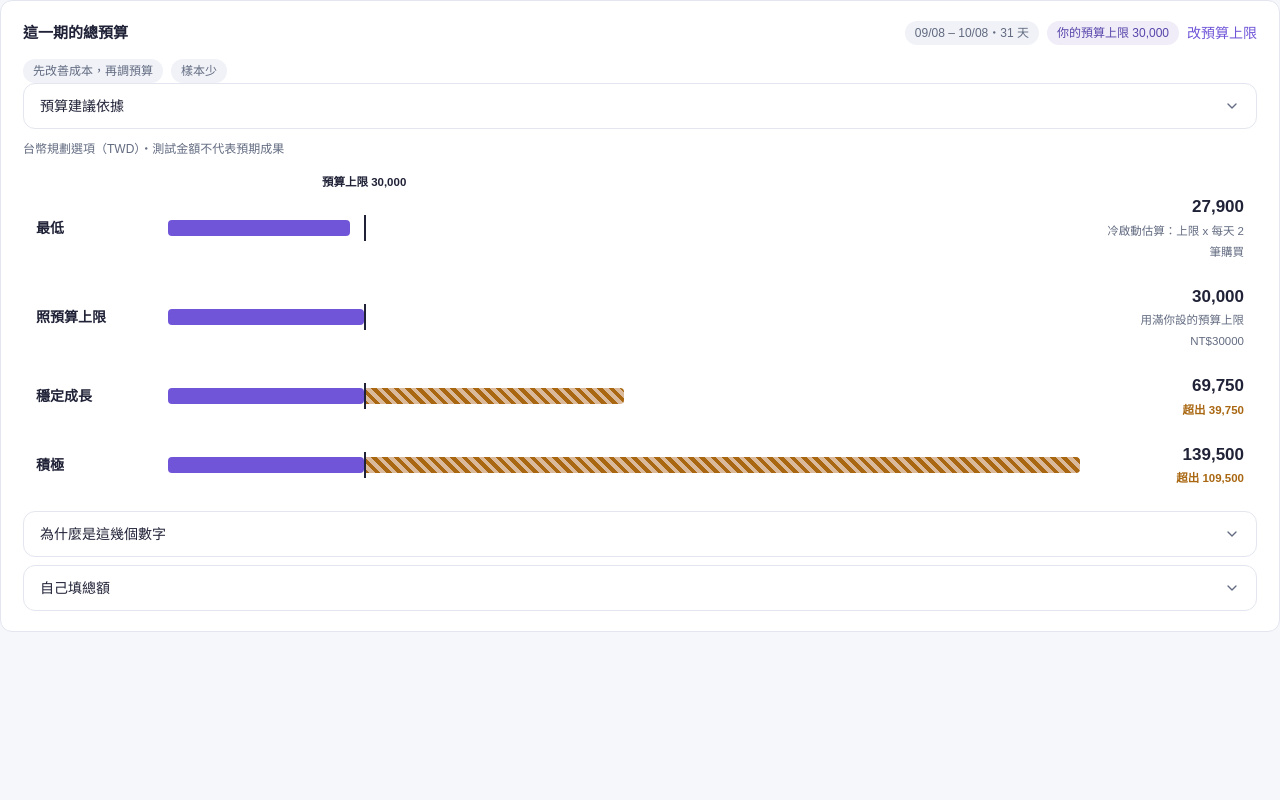
Test case: BudgetScenarios › prints served repair_before_budget without reclassifying a nullable recommendation
Check: the text "先改善成本，再調預算" is shown, box [23,59,163,83]
Click the button "預算建議依據" at (82, 106), box [24,84,1256,128]
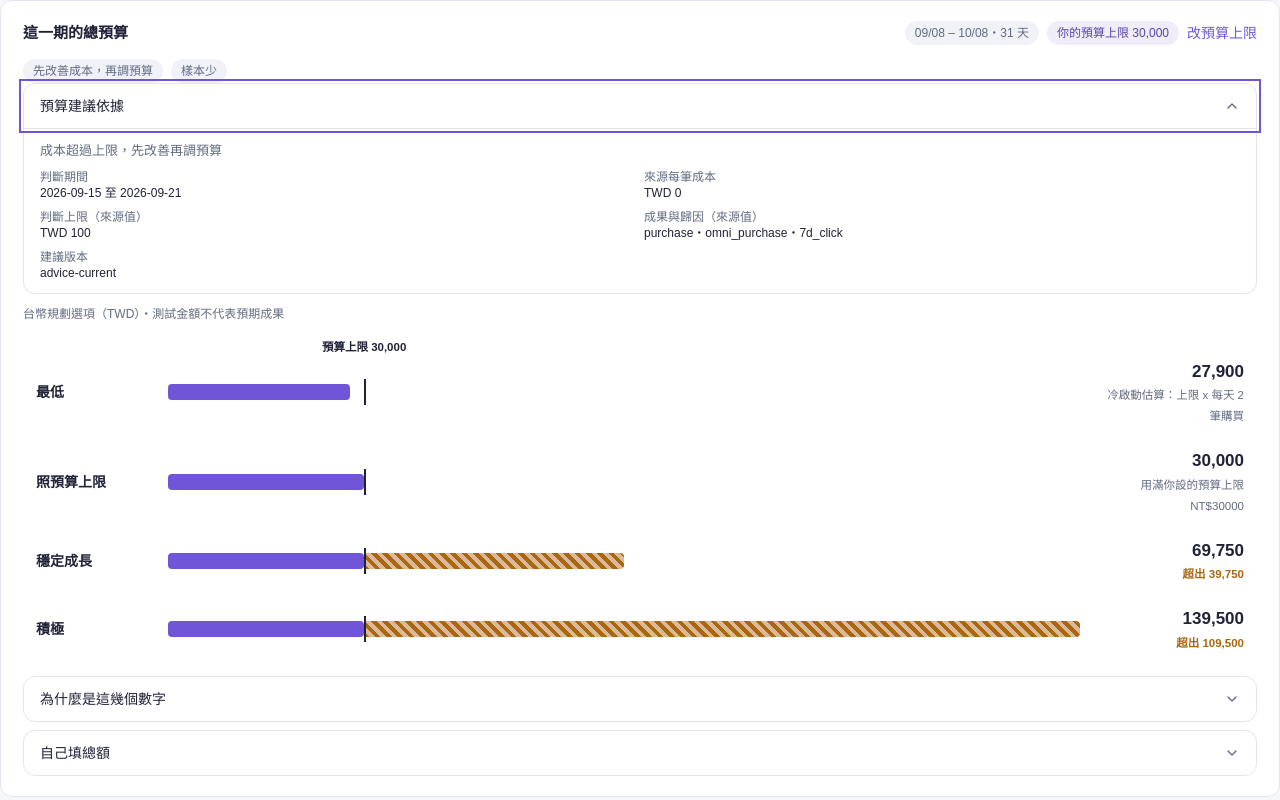
Check: the list item "成本超過上限，先改善再調預算" is shown, box [40,143,222,158]
Check: the text "TWD 0" is shown, box [644,186,681,200]
Check: the text "advice-current" is shown, box [40,266,116,280]
